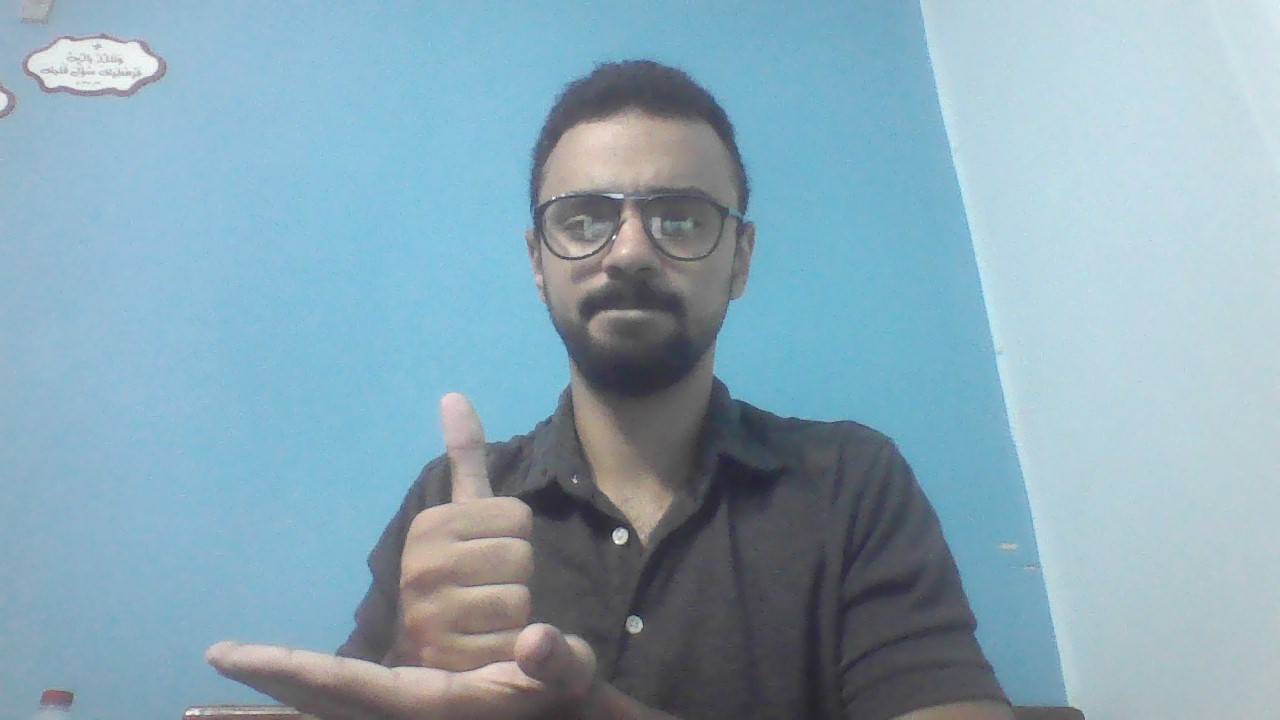help: (203, 398, 606, 718)
